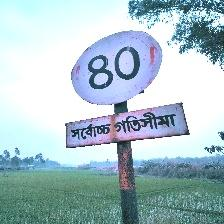Speed-limit: (66, 29, 187, 148)
